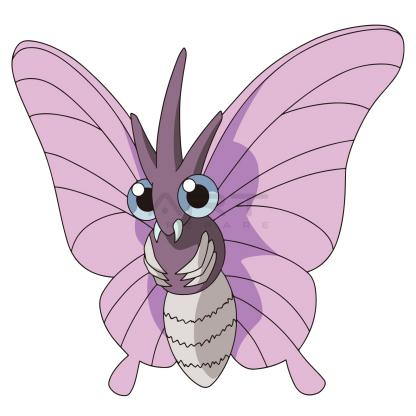Venomoth: (1, 13, 416, 402)
